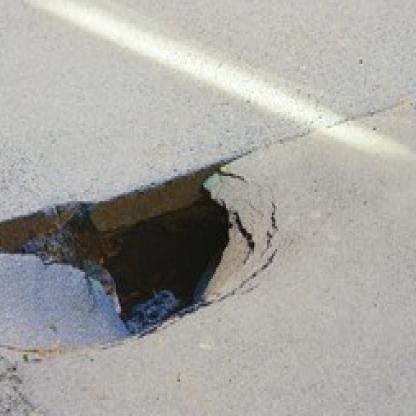pothole: (0, 158, 251, 354)
